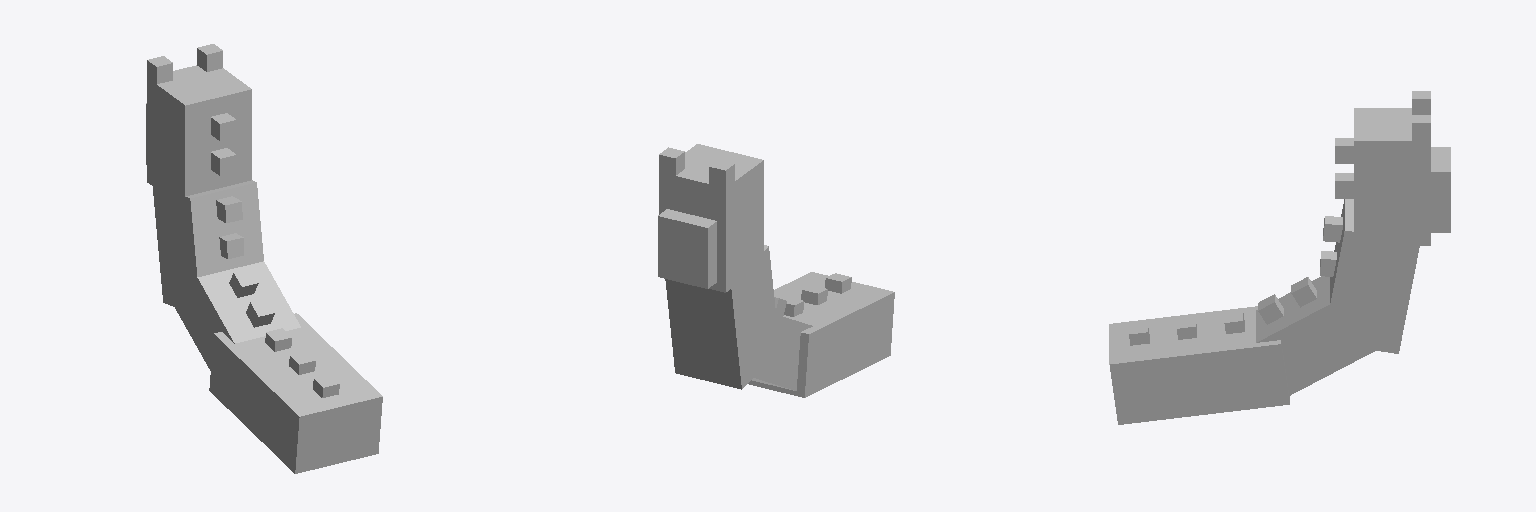
Rendered from evilgreg.obj.
The picture shows the model from 3 angles: view 1: azimuth 30°, elevation 25°; view 2: azimuth 150°, elevation 25°; view 3: azimuth 270°, elevation 25°; orthographic projection.
Visible parts, largest first — view 1: cube; view 2: cube; view 3: cube.
Part boxes in pixels (left/top/right/bottom): cube: left=146, top=44, right=382, bottom=473; cube: left=658, top=144, right=894, bottom=397; cube: left=1109, top=91, right=1450, bottom=424.
Size of the model in its own units: 0.625 by 2.13 by 2.21.